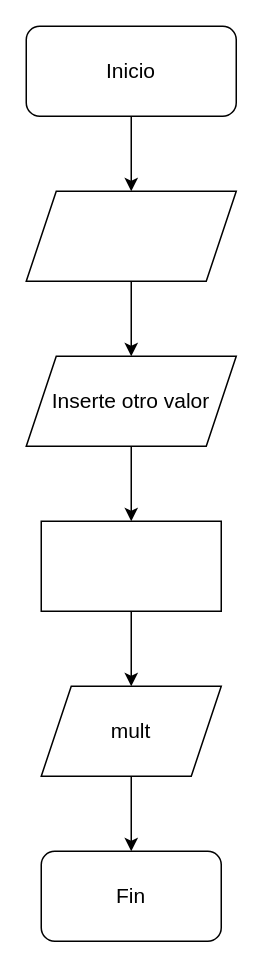
The diagram is 263 pixels wide and 968 high, and some of its shapes have lost their labels. Each missing label, with the centre of its shape:
"Inserte un valor" belongs at point (130, 235).
"mult = n1 * n2" belongs at point (130, 565).
